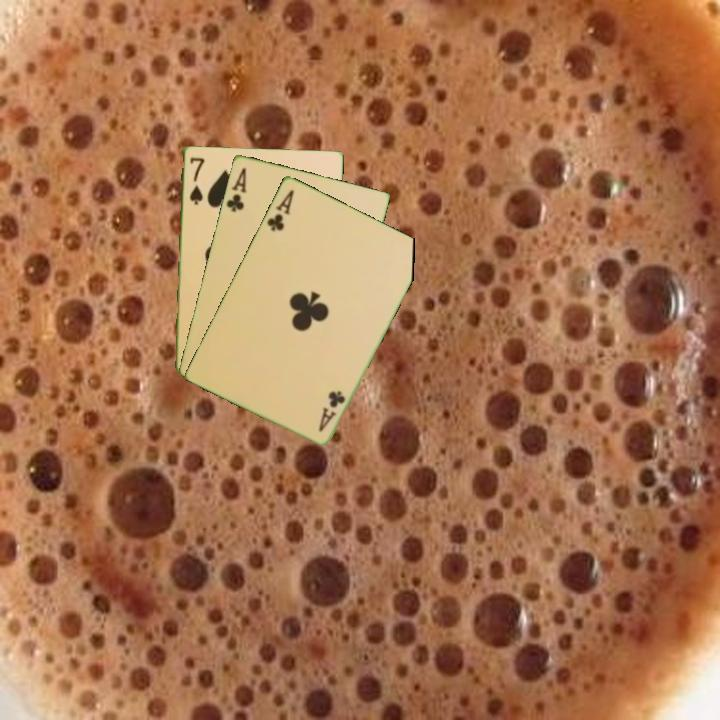7s: (186, 153, 207, 207)
Ac: (263, 186, 297, 233), (315, 387, 348, 434), (223, 164, 249, 215)
